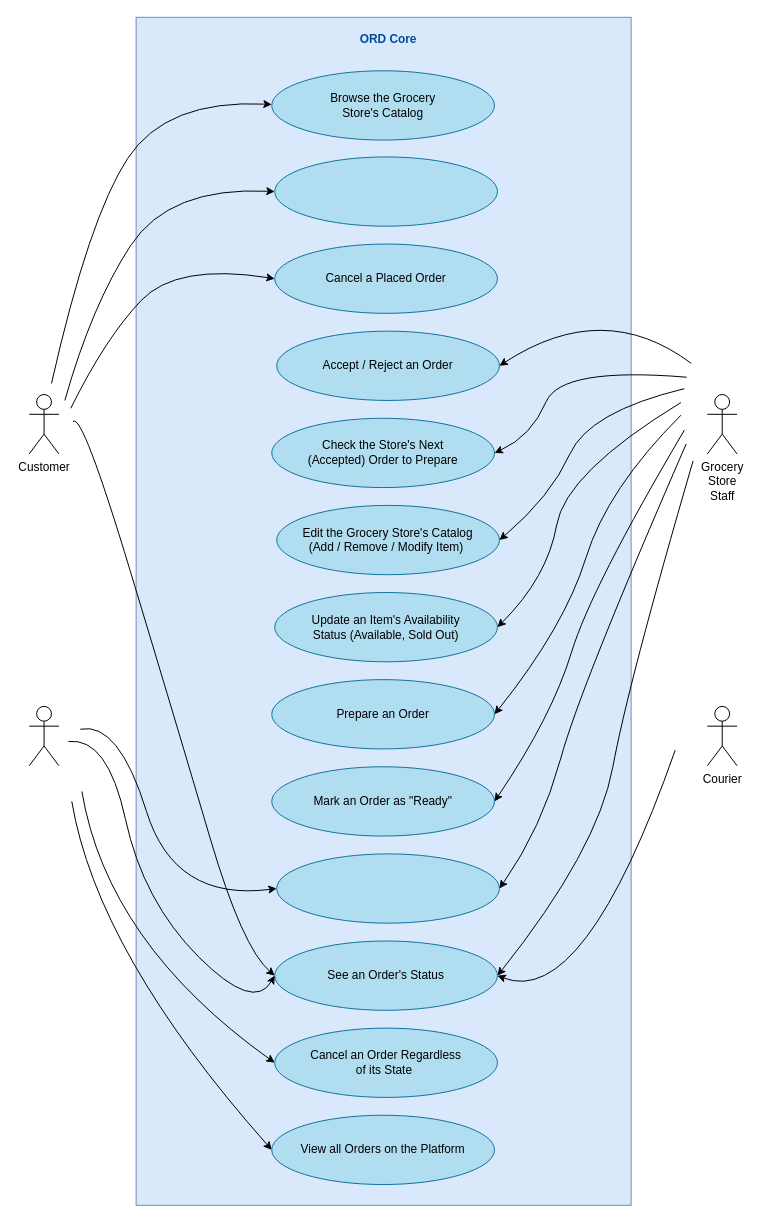
Some shapes in this 760 by 1223 pixel diagram are drawn without their labels. The box of each missing label's shape, as (x1, y1, x2, y2) in pixels:
Place an Order: (274, 156, 497, 226)
Set the Grocery Store's Operating Status (Open / Paused / Closed): (276, 853, 499, 923)
ShopEasy Operator: (28, 705, 59, 766)
